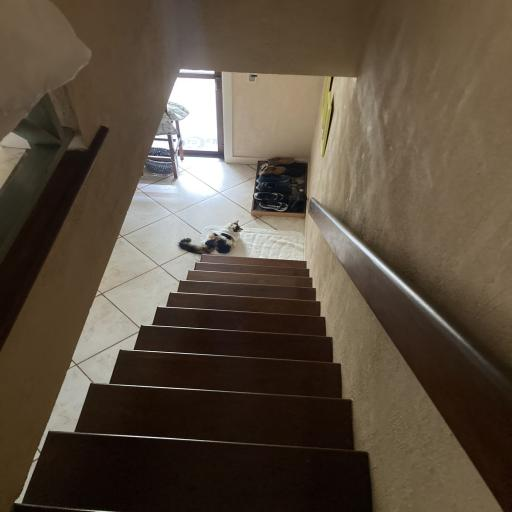sofa: (15, 256, 371, 511)
